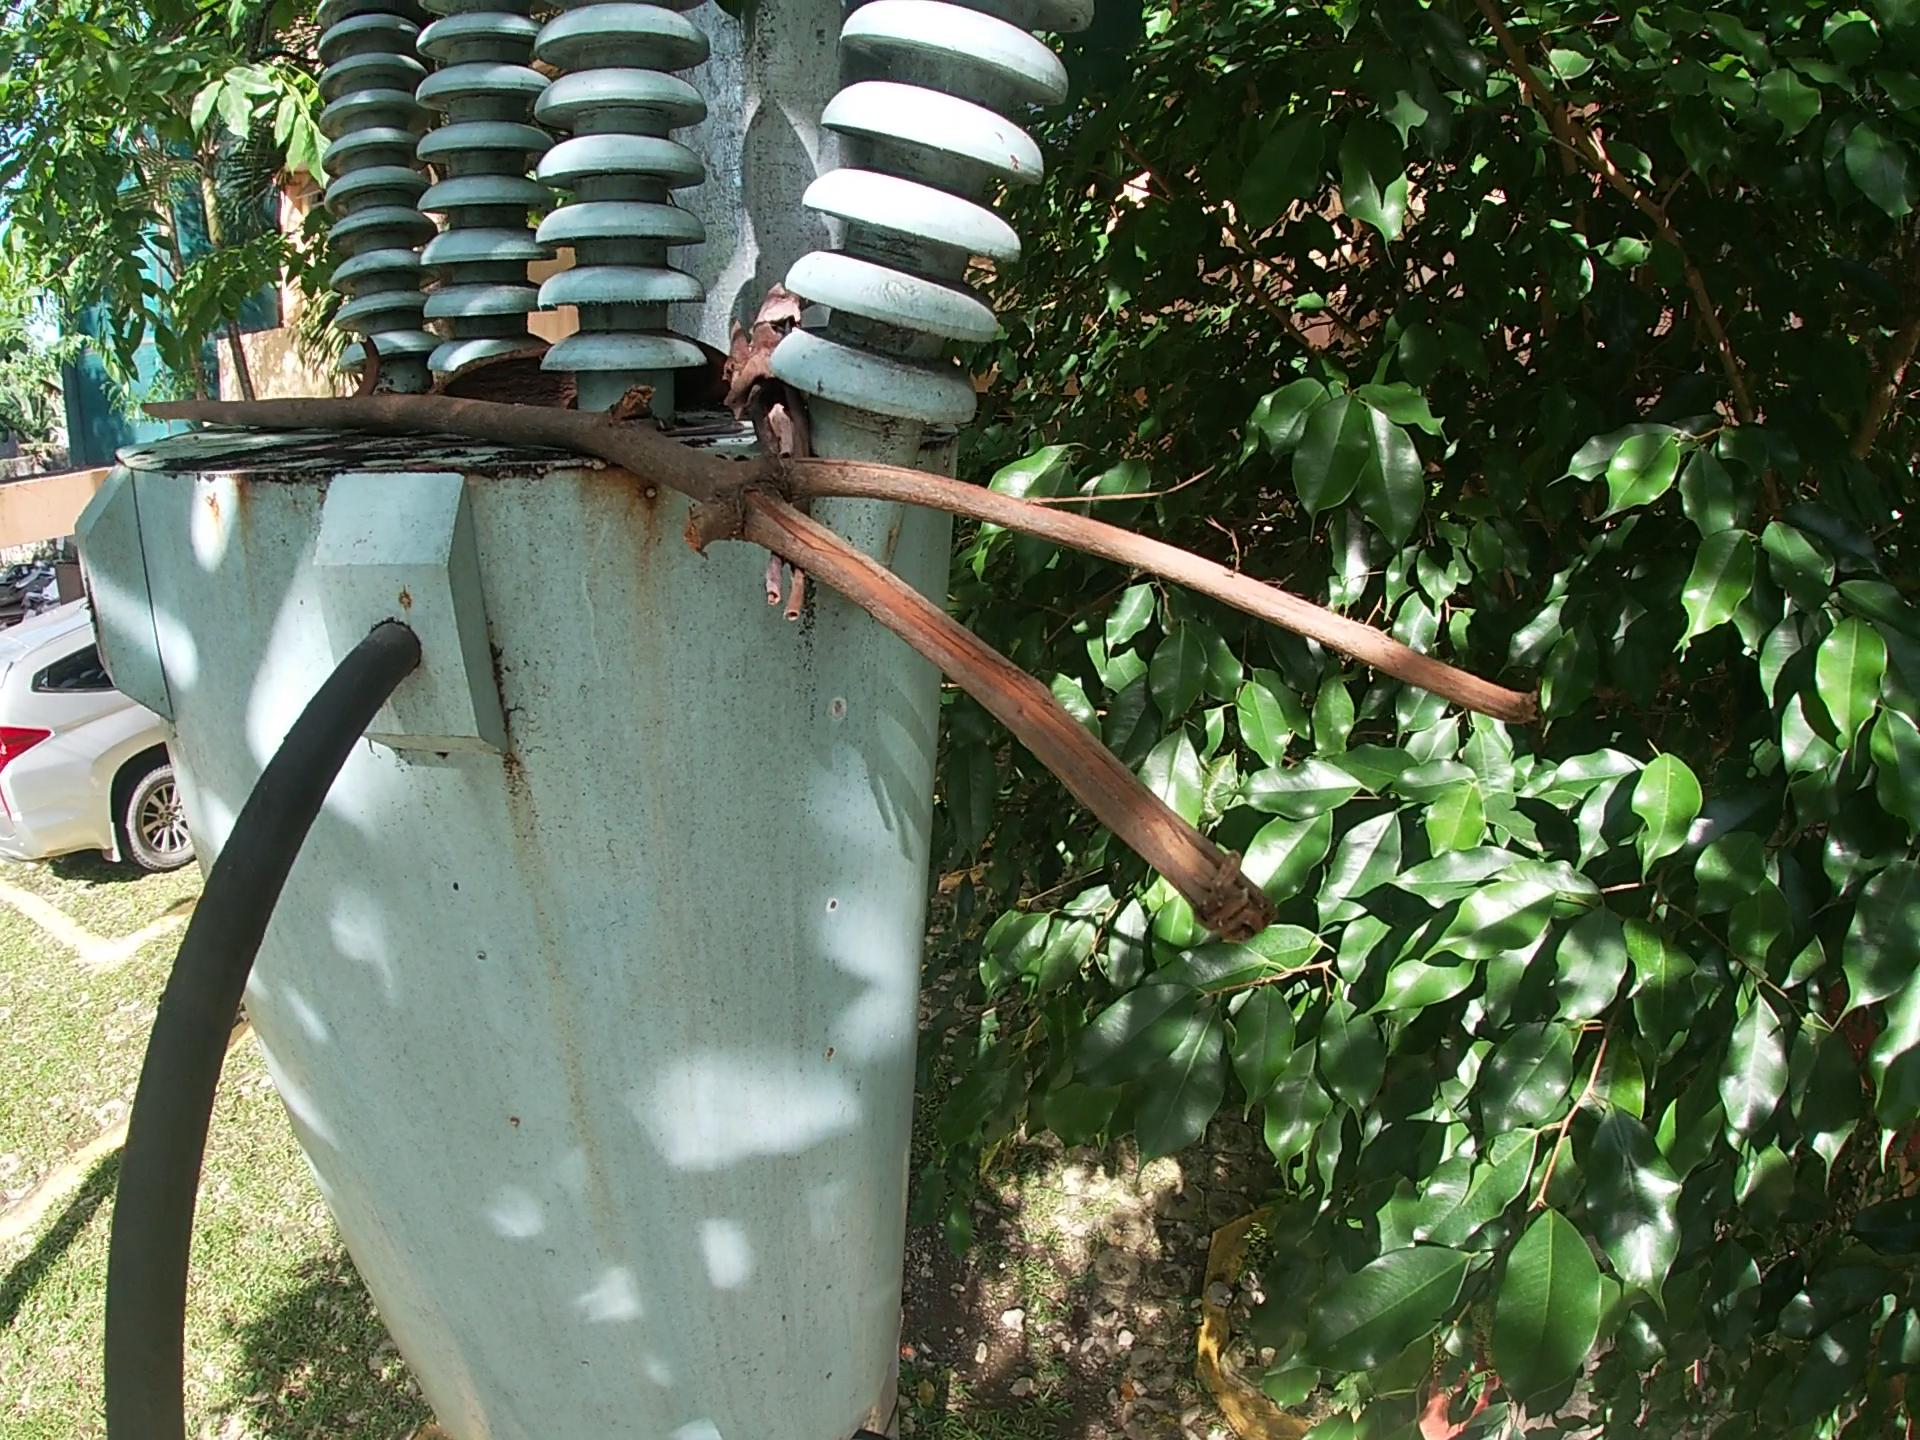mahogany fruit: (425, 331, 735, 433), (348, 331, 384, 402)
tree branch: (130, 368, 1556, 954), (717, 275, 822, 628)
